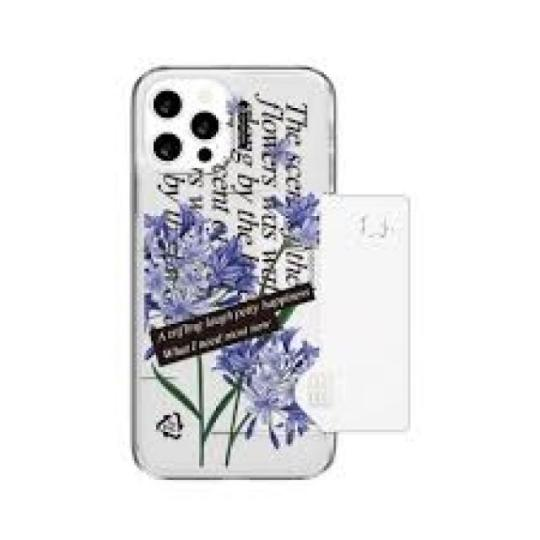phone: (134, 64, 340, 481)
